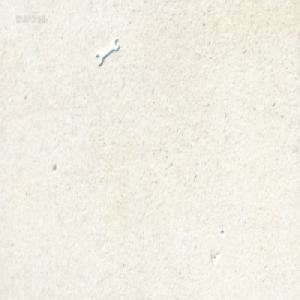Wrench: (95, 39, 118, 67)
